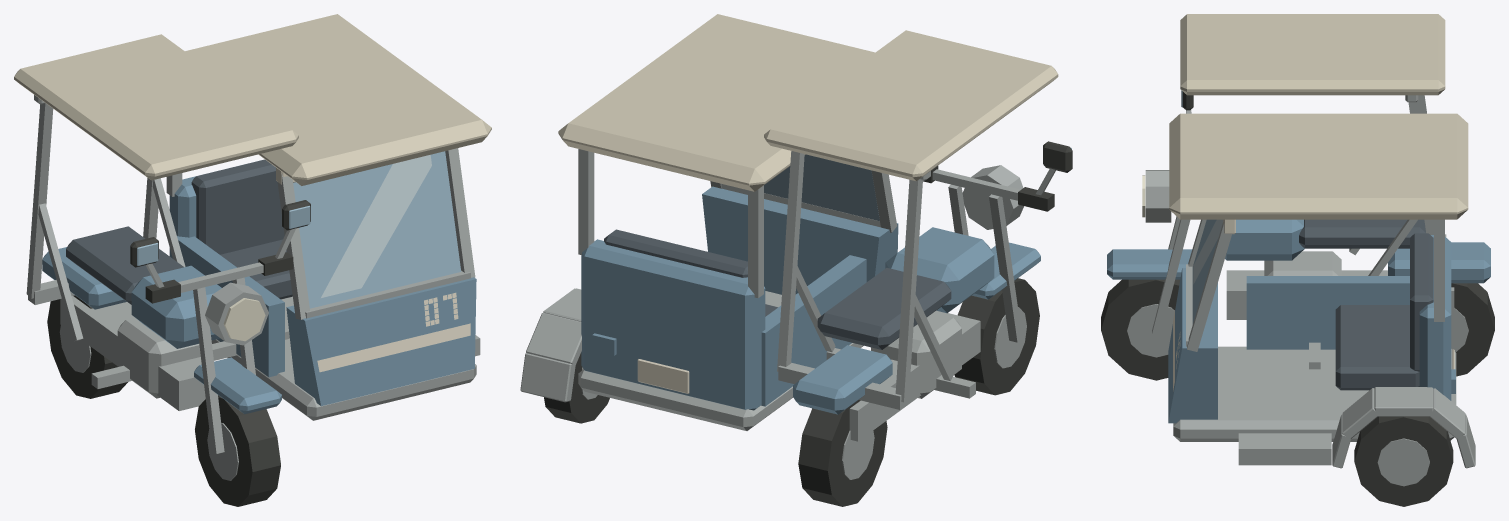
Rendered from eskinita-passenger-tricycle.glb.
3 renders of one model, left to right at view 1: azimuth 30°, elevation 25°; view 2: azimuth 150°, elevation 25°; view 3: azimuth 270°, elevation 25°, orthographic. The views are drawn at different scales.
Parts seen in each view (by area): view 1: eskinita-passenger-tricycle; view 2: eskinita-passenger-tricycle; view 3: eskinita-passenger-tricycle.
Boxes of the visible parts, x1,y1,x2,y2 form: eskinita-passenger-tricycle: [14, 14, 491, 506]; eskinita-passenger-tricycle: [520, 14, 1072, 506]; eskinita-passenger-tricycle: [1101, 14, 1494, 506].
Bounding box in the file's own units: 2.15 × 1.82 × 1.99.
